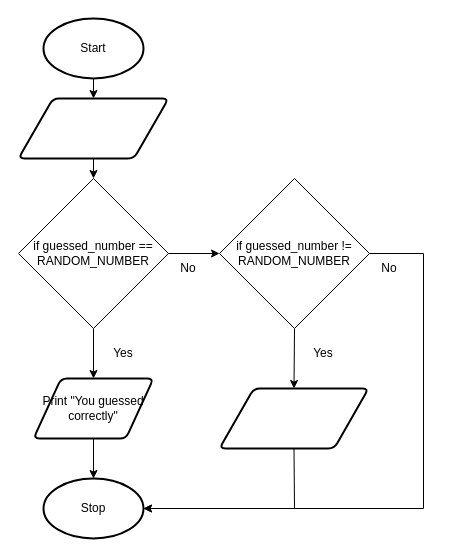
The diagram is 449 pixels wide and 556 high, and some of its shapes have lost their labels. The centre of each missing label's shape, as x and y in pixels:
Get guessed_number: (93,128)
Print "You guessed incorrectly": (293,418)
